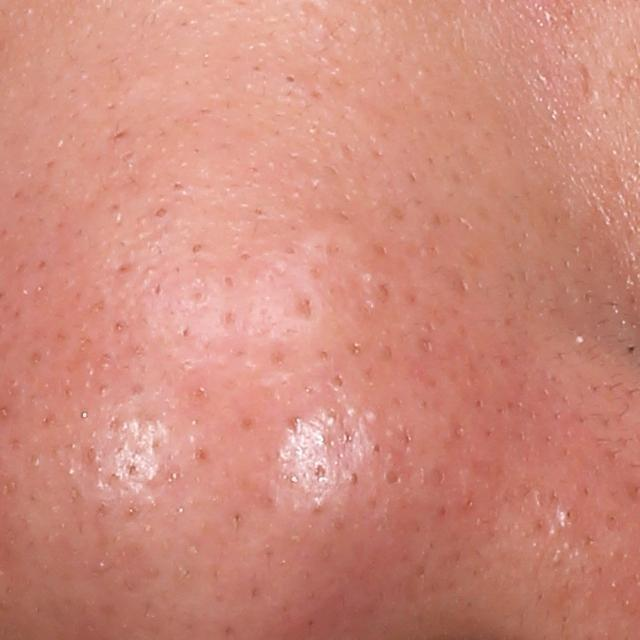atrophic_scar: (578, 60, 598, 110)
comedo: (383, 467, 403, 489), (282, 71, 298, 87)
